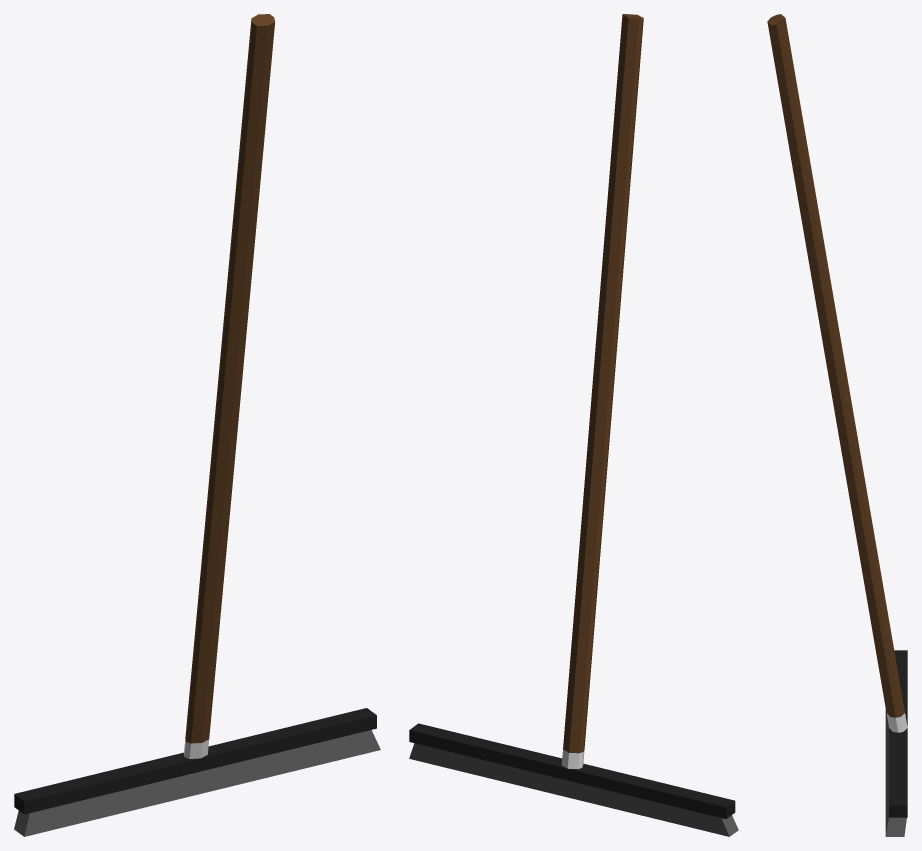
File: Rodo.fbx
The picture shows the model from 3 angles, left to right: view 1: azimuth 30°, elevation 25°; view 2: azimuth 150°, elevation 25°; view 3: azimuth 270°, elevation 25°; orthographic projection. The views are drawn at different scales.
Parts seen in each view (by area): view 1: Rodo; view 2: Rodo; view 3: Rodo.
Part boxes in pixels (bbox=[...]): Rodo: bbox=[14, 14, 380, 836]; Rodo: bbox=[409, 14, 738, 836]; Rodo: bbox=[767, 14, 907, 836].
Size of the model in its own units: 278 by 105 by 610.
